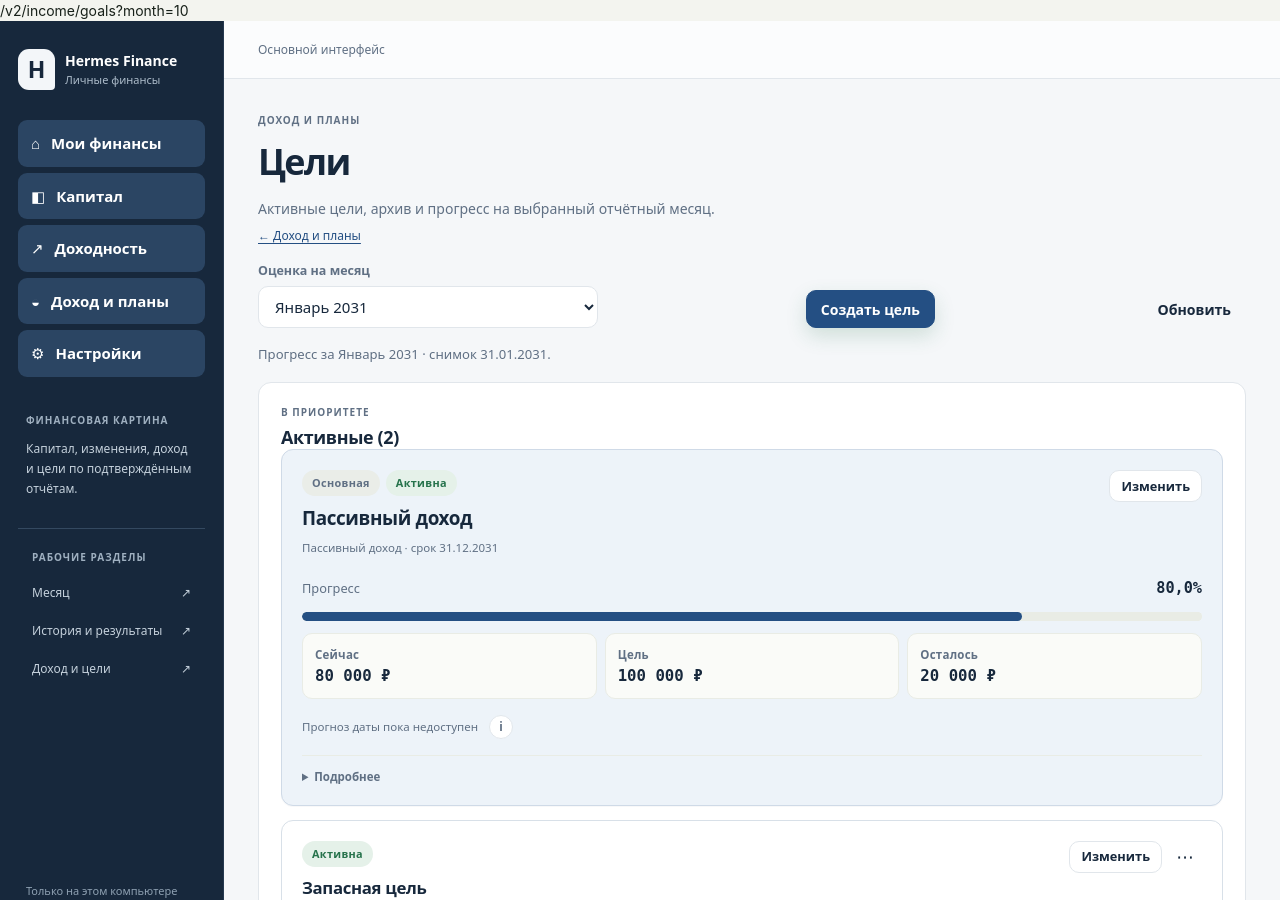
Scenario: GoalsWorkspace R03-09 cards › renders the native v2 route and keeps the selected month in navigation and dialogs
Check: the heading "Пассивный доход" is shown, box [302,504,498,533]
Check: the heading "Цели" is shown, box [258,137,350,186]
Click the button "Создать цель".
click(870, 309)  # box [806,290,935,328]
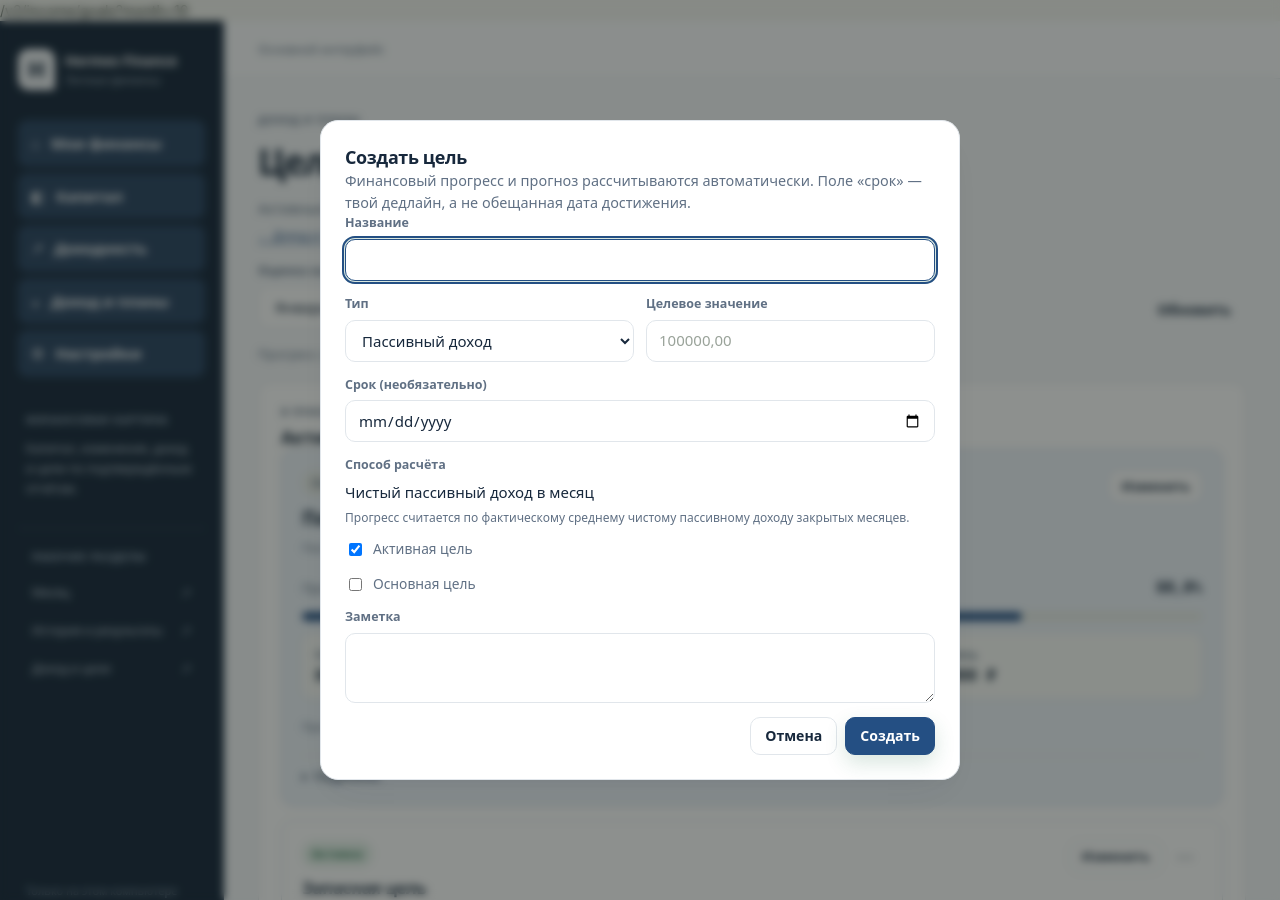
Check: the dialog is shown, box [320,120,960,780]
Press Escape
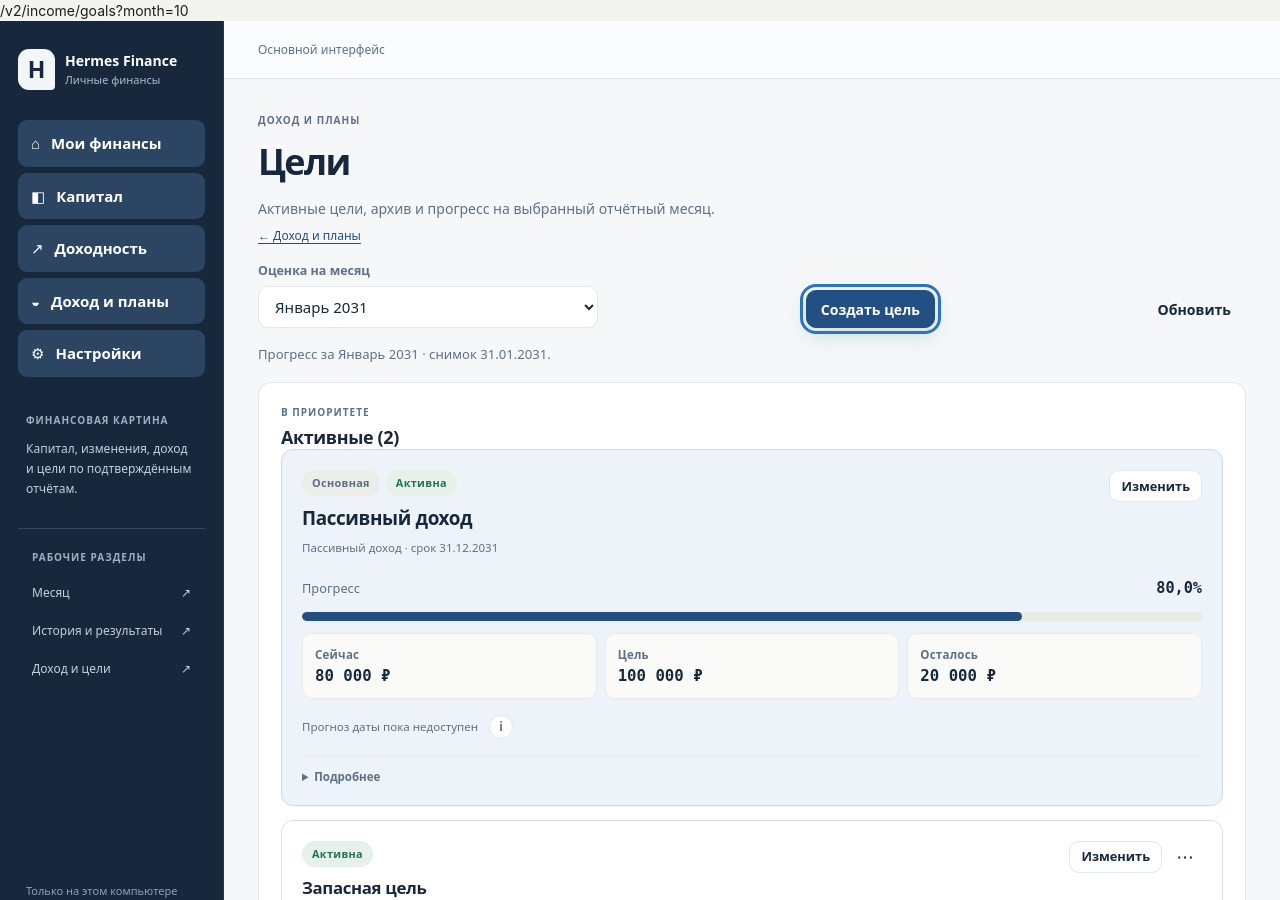
Check: the dialog is gone
Select "Февраль 2031" in the dropdown labelled "Оценка на месяц" at x=428, y=307, box [258,286,598,328]
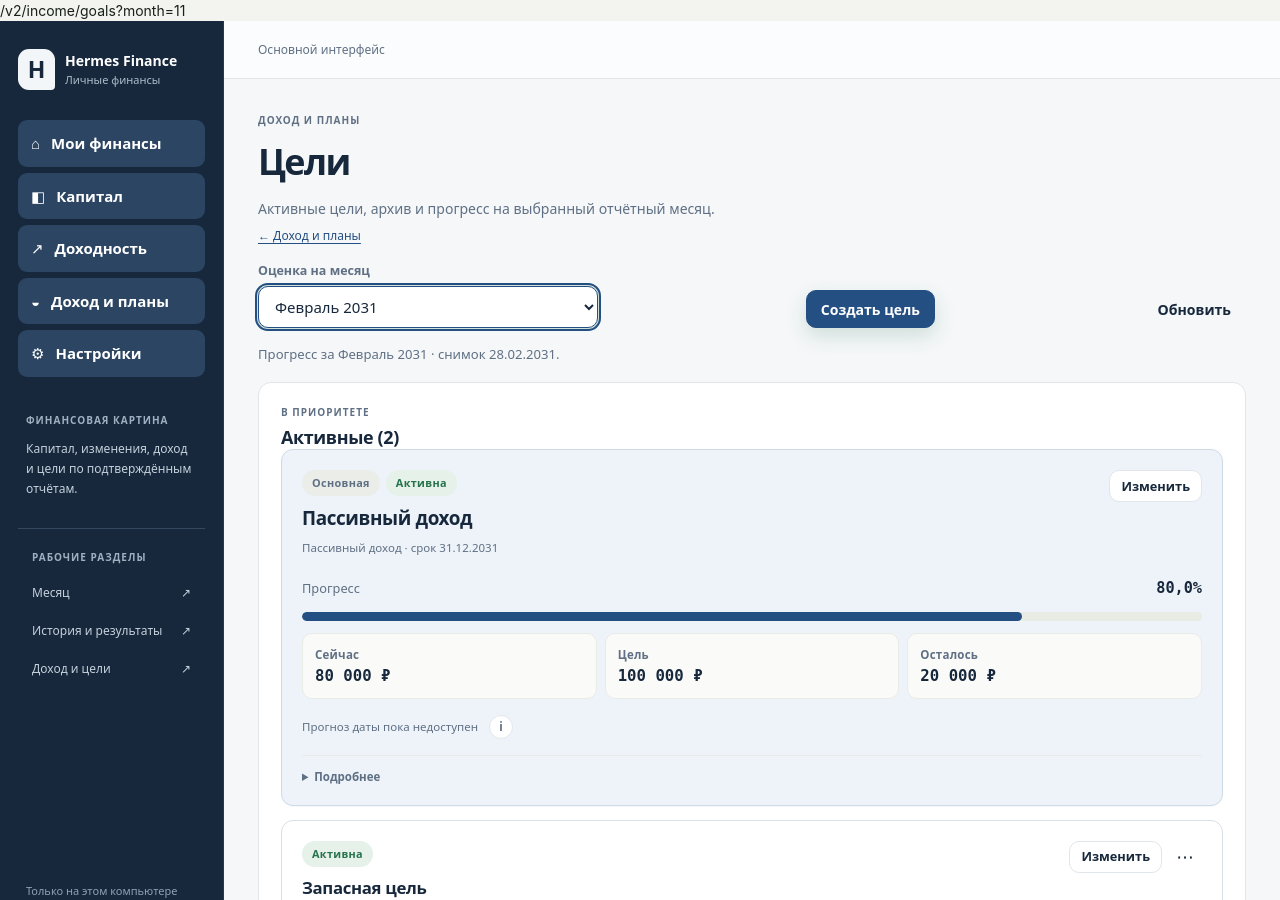
Check: the text with test id "test-location" reads "/v2/income/goals?month=11", box [0,2,185,19]
